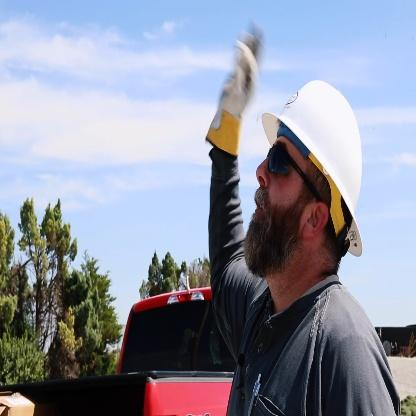helmet: (233, 76, 368, 307)
